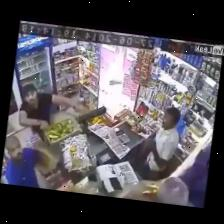person: (18, 84, 80, 140), (139, 107, 179, 180), (5, 135, 51, 187), (5, 135, 47, 187), (178, 145, 209, 207)
